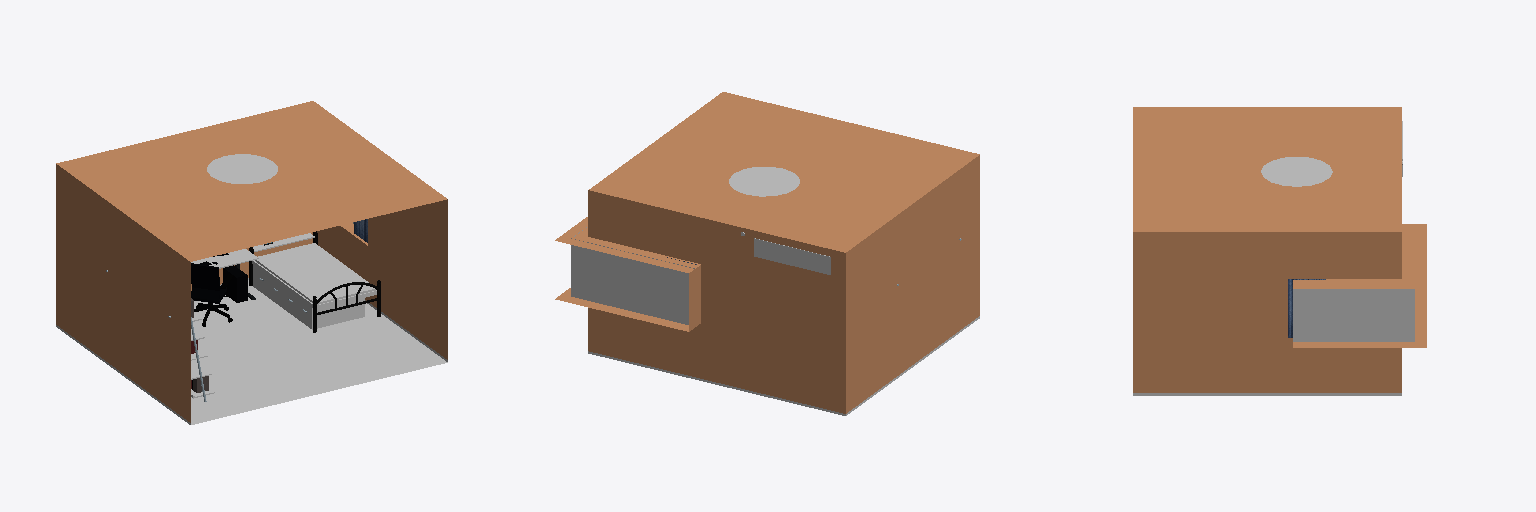
3 views of the same model, side by side, from view 1: azimuth 30°, elevation 25°; view 2: azimuth 150°, elevation 25°; view 3: azimuth 270°, elevation 25° (orthographic).
Parts seen in each view (by area): view 1: walls_Cube.007, ceiling_Plane.001, floor_Plane, bed_matras_Cube.003, bed_drawers_Cube.009, lamp_Cylinder.012, chair_Cube.027, computer_Cube.021, desk_Cube.010, bed_Cube.002, shelf_Cube.022; view 2: walls_Cube.007, ceiling_Plane.001, curtain.002_Plane.004, lamp_Cylinder.012, airco_Cube.024; view 3: walls_Cube.007, ceiling_Plane.001, curtain.002_Plane.004, lamp_Cylinder.012.
Boxes of the visible parts, <box> form: walls_Cube.007: <box>56,150,447,424</box>; ceiling_Plane.001: <box>56,101,446,261</box>; floor_Plane: <box>191,280,447,424</box>; bed_matras_Cube.003: <box>255,243,375,304</box>; bed_drawers_Cube.009: <box>253,265,364,329</box>; lamp_Cylinder.012: <box>207,154,277,183</box>; chair_Cube.027: <box>191,263,226,303</box>; computer_Cube.021: <box>223,265,247,302</box>; desk_Cube.010: <box>191,249,258,268</box>; bed_Cube.002: <box>252,260,376,308</box>; shelf_Cube.022: <box>191,313,214,398</box>; walls_Cube.007: <box>555,155,979,415</box>; ceiling_Plane.001: <box>589,92,979,252</box>; curtain.002_Plane.004: <box>571,227,694,324</box>; lamp_Cylinder.012: <box>729,167,799,196</box>; airco_Cube.024: <box>754,238,830,274</box>; walls_Cube.007: <box>1133,224,1426,395</box>; ceiling_Plane.001: <box>1133,107,1401,231</box>; curtain.002_Plane.004: <box>1293,289,1414,341</box>; lamp_Cylinder.012: <box>1261,157,1332,186</box>.
Size of the model in its own units: 5.2 by 2.91 by 4.73.
24 materials, 1 textured.